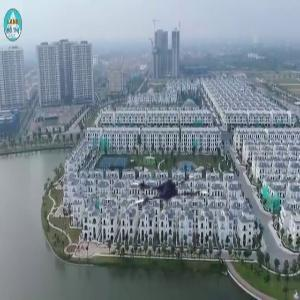drone: (125, 159, 209, 243)
